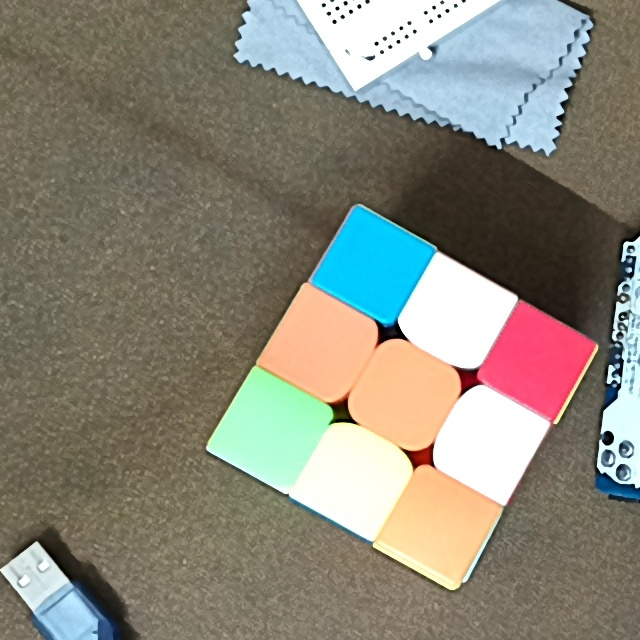tile: (410, 490, 474, 556), (289, 312, 356, 374), (373, 364, 440, 425), (323, 446, 390, 507), (423, 283, 489, 343), (456, 411, 521, 471), (240, 404, 304, 464), (508, 326, 571, 386), (341, 238, 404, 295)
